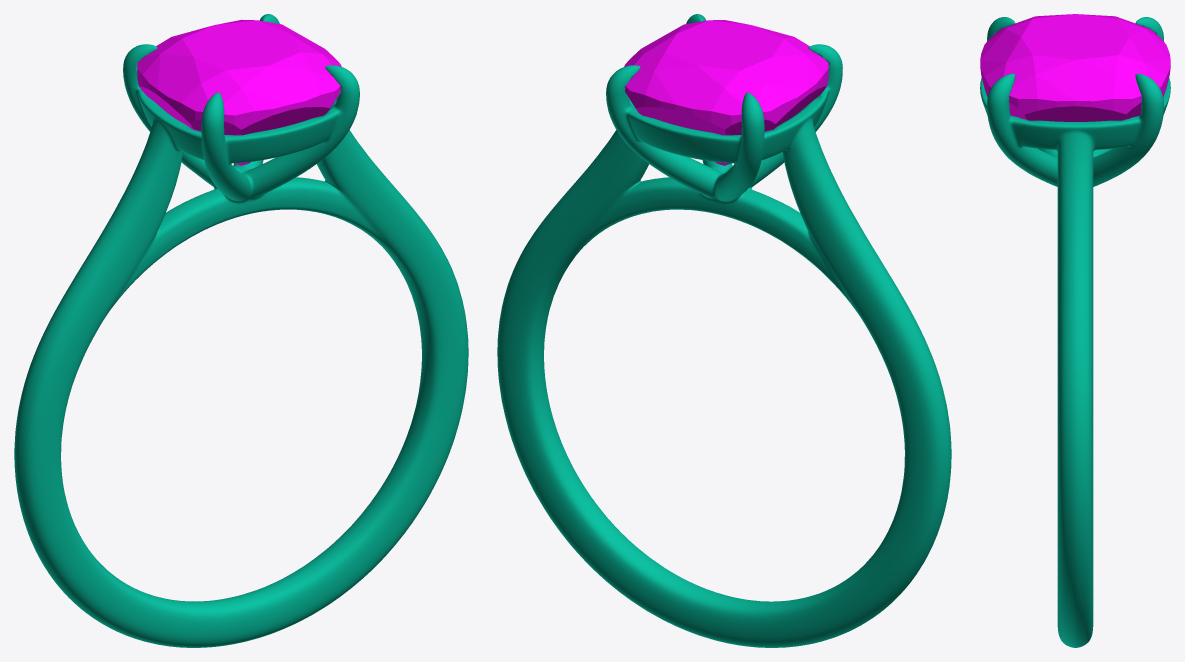
Rendered from BE1776_CU_200ct_RENDER.glb.
3 renders of one model, left to right at view 1: azimuth 30°, elevation 25°; view 2: azimuth 150°, elevation 25°; view 3: azimuth 270°, elevation 25°, orthographic.
Visible parts, largest first — view 1: Metal 01, CS_Diamond_Cushion; view 2: Metal 01, CS_Diamond_Cushion; view 3: Metal 01, CS_Diamond_Cushion.
Boxes of the visible parts, <box> form: Metal 01: <box>14,14,468,647</box>; CS_Diamond_Cushion: <box>137,19,341,165</box>; Metal 01: <box>497,14,951,647</box>; CS_Diamond_Cushion: <box>624,20,828,165</box>; Metal 01: <box>980,17,1170,647</box>; CS_Diamond_Cushion: <box>980,14,1170,121</box>.
Size of the model in its own units: 20.14 by 25.48 by 7.51.
